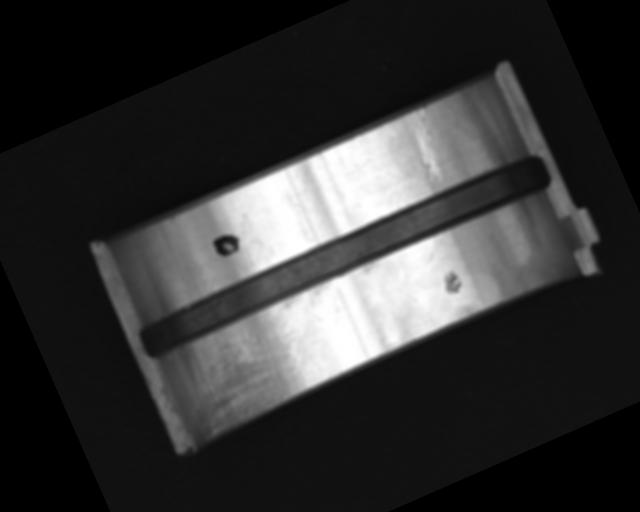blot: (209, 228, 245, 261)
bruise: (436, 265, 468, 299)
gap: (131, 147, 557, 366)
nick: (398, 103, 455, 186)
scratch: (161, 293, 337, 446)
